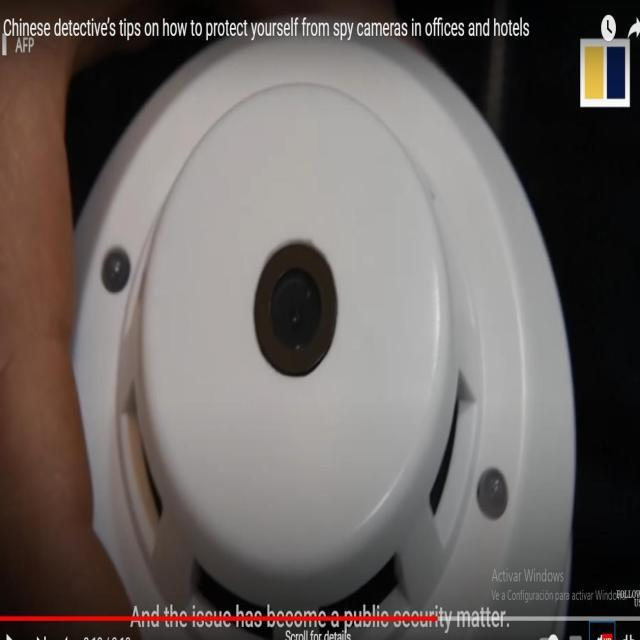hidden camera: (269, 264, 324, 355)
